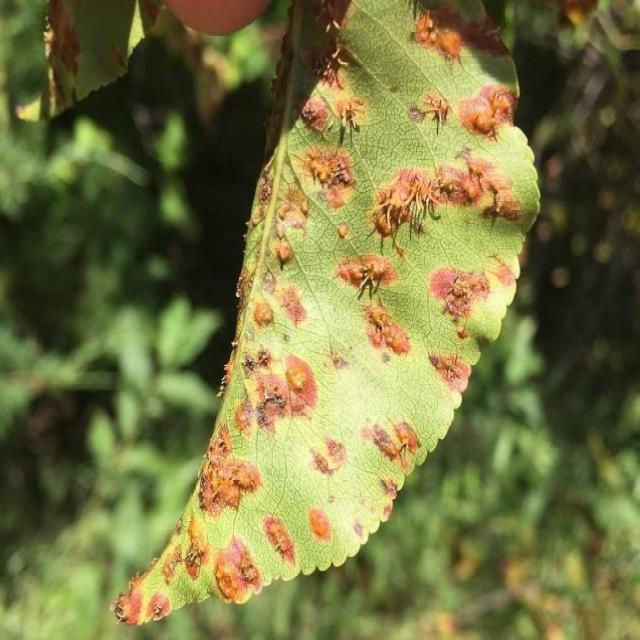Gymnosporangium_Rusts: (108, 1, 542, 627)
